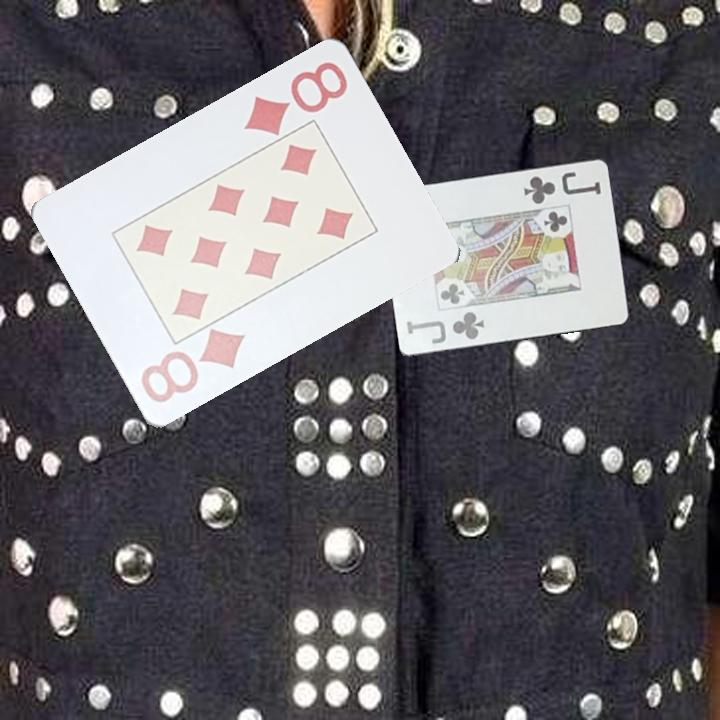8d: (136, 326, 249, 407), (240, 58, 351, 139)
Jc: (520, 167, 604, 207), (403, 308, 488, 347)
